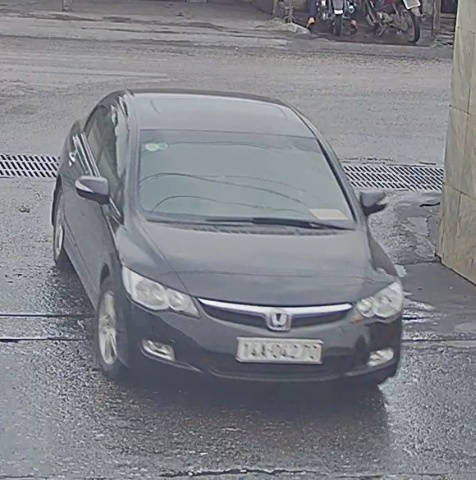vehicle plate: (229, 331, 330, 373)
